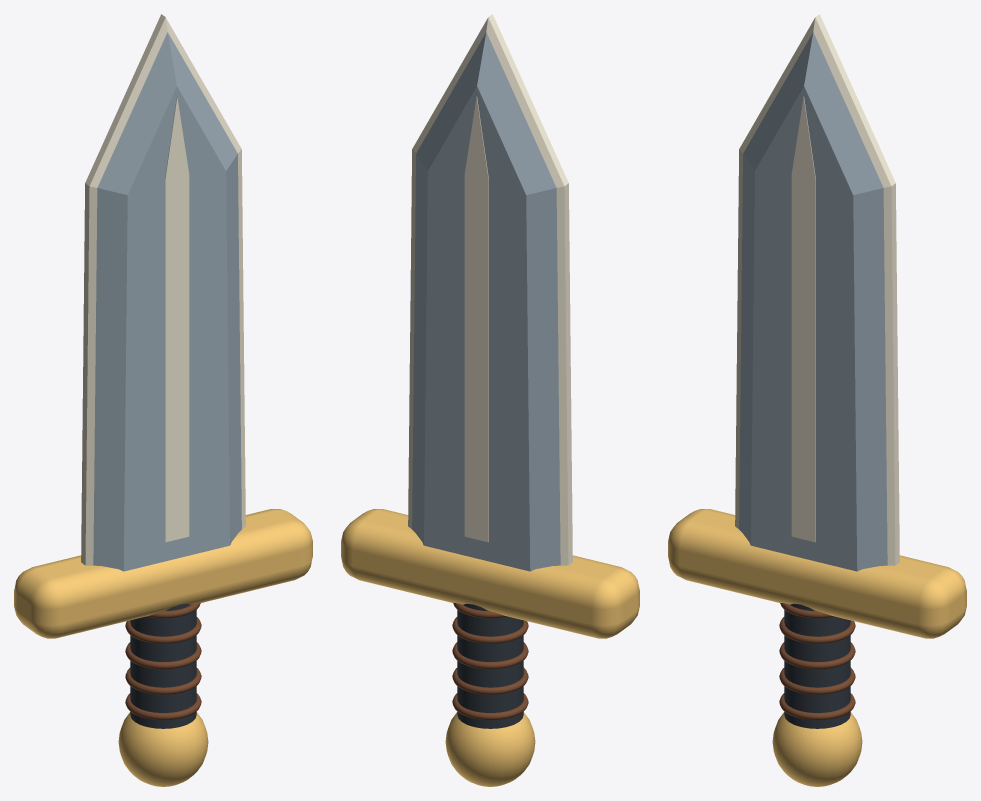
Rendered from BLADE.glb.
3 views of the same model, side by side, from view 1: azimuth 30°, elevation 25°; view 2: azimuth 150°, elevation 25°; view 3: azimuth 330°, elevation 25° (orthographic).
Parts seen in each view (by area): view 1: BLADE; view 2: BLADE; view 3: BLADE.
Boxes of the visible parts, left/top/right/bottom form: BLADE: left=14, top=14, right=312, bottom=786; BLADE: left=341, top=14, right=639, bottom=786; BLADE: left=668, top=14, right=966, bottom=786.
Bounding box in the file's own units: 0.33 × 0.866 × 0.092.
